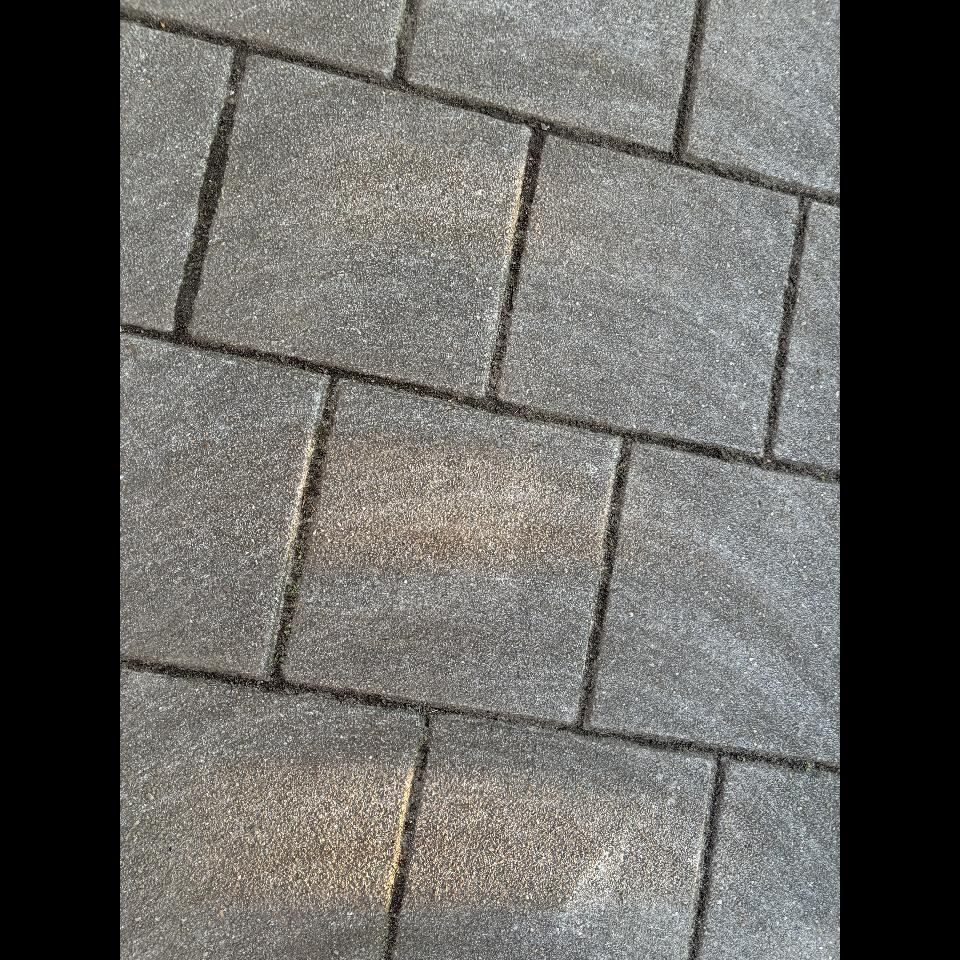weed: (291, 585, 297, 594), (283, 630, 290, 636)
